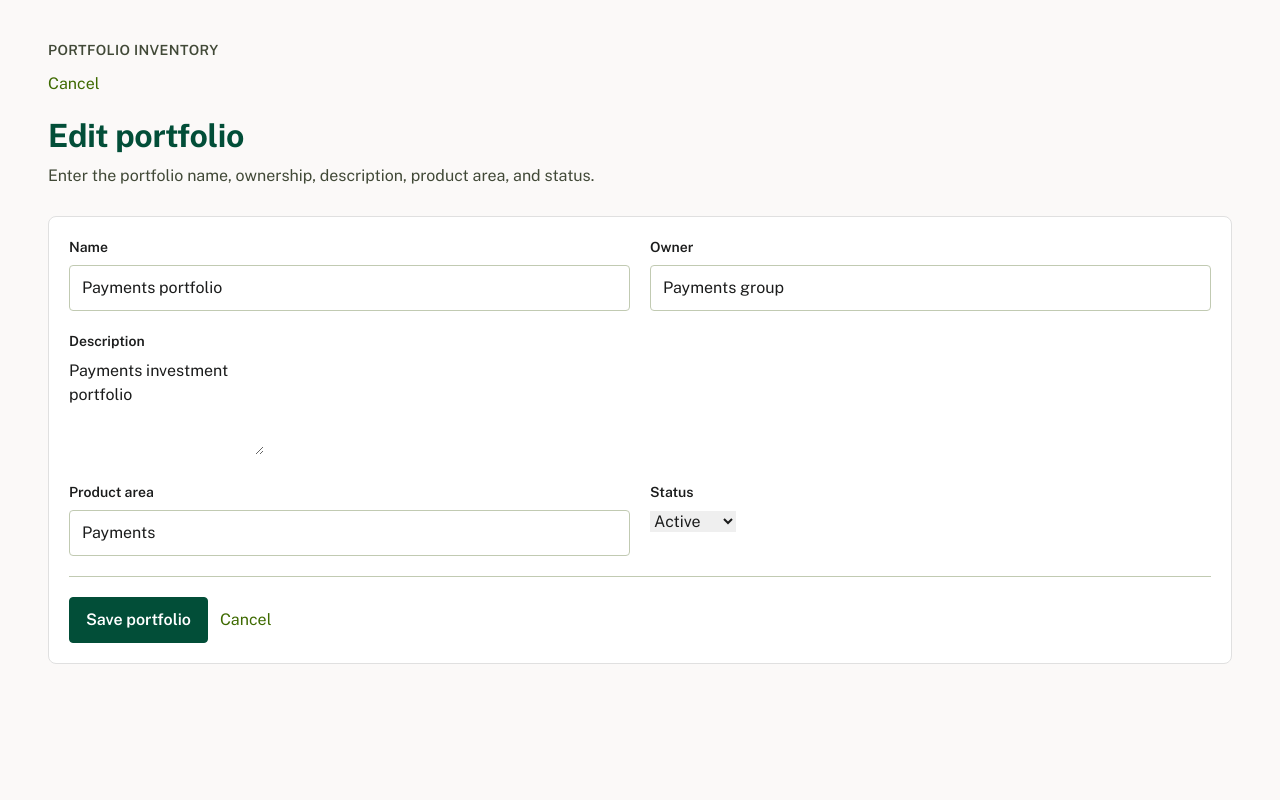
Test: PortfolioFormPage › loads all edit values and updates the portfolio before navigating to its details
Check: the form named "Edit portfolio" is shown, box x1=48 y1=216 x2=1232 y2=664
Check: the field labelled "Owner" holds "Payments group", box x1=650 y1=265 x2=1211 y2=311
Replace the text in the field labelled "Name" with "Payments portfolio updated" at [350, 288], box x1=69 y1=265 x2=630 y2=311
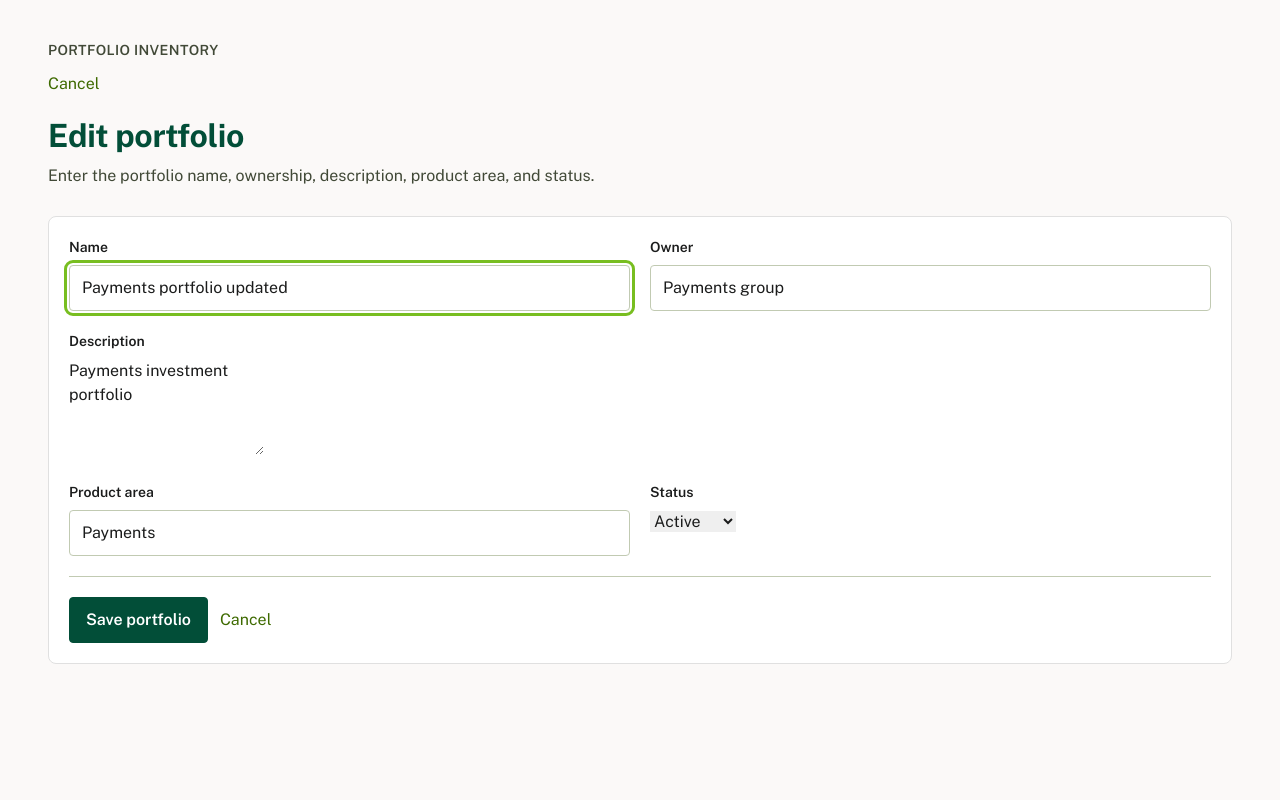
Select "Archived" in the dropdown labelled "Status" at [693, 522], box x1=650 y1=511 x2=736 y2=532
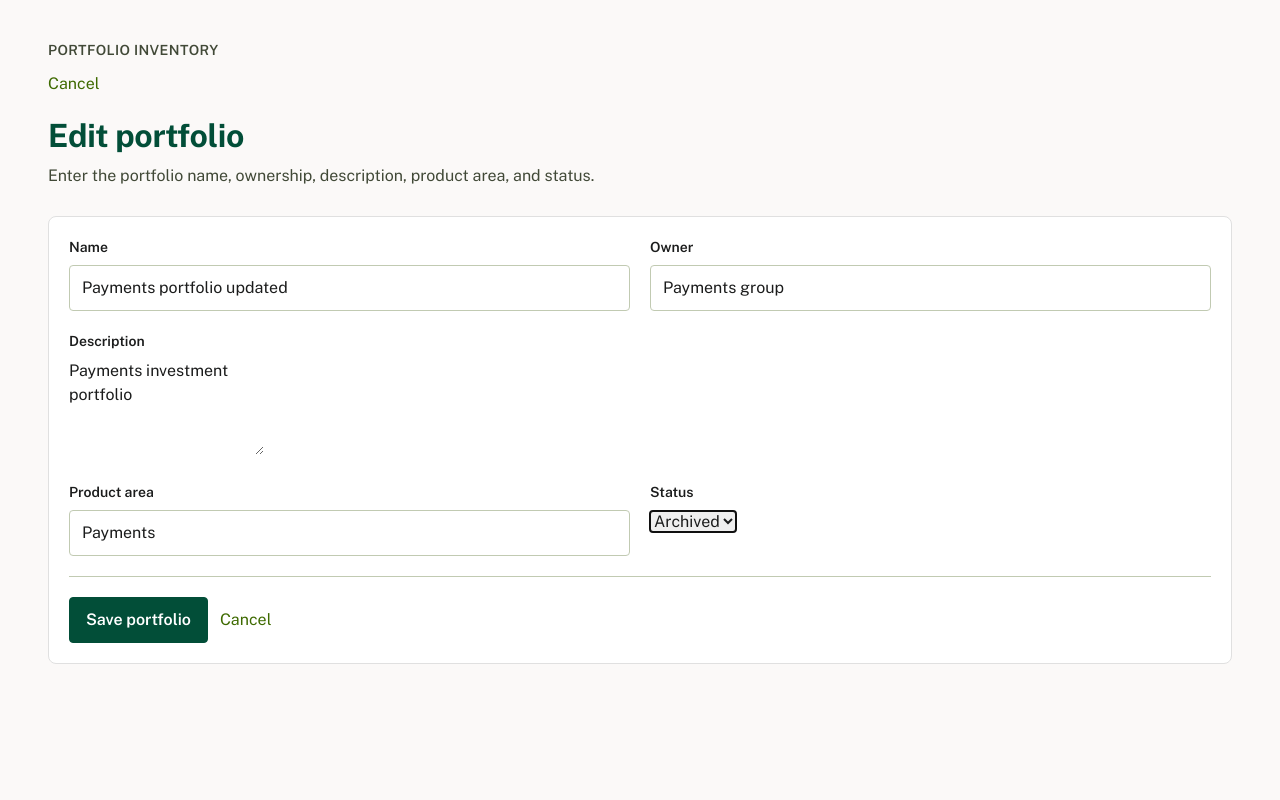
Click the button "Save portfolio" at [138, 620], box x1=69 y1=597 x2=208 y2=643
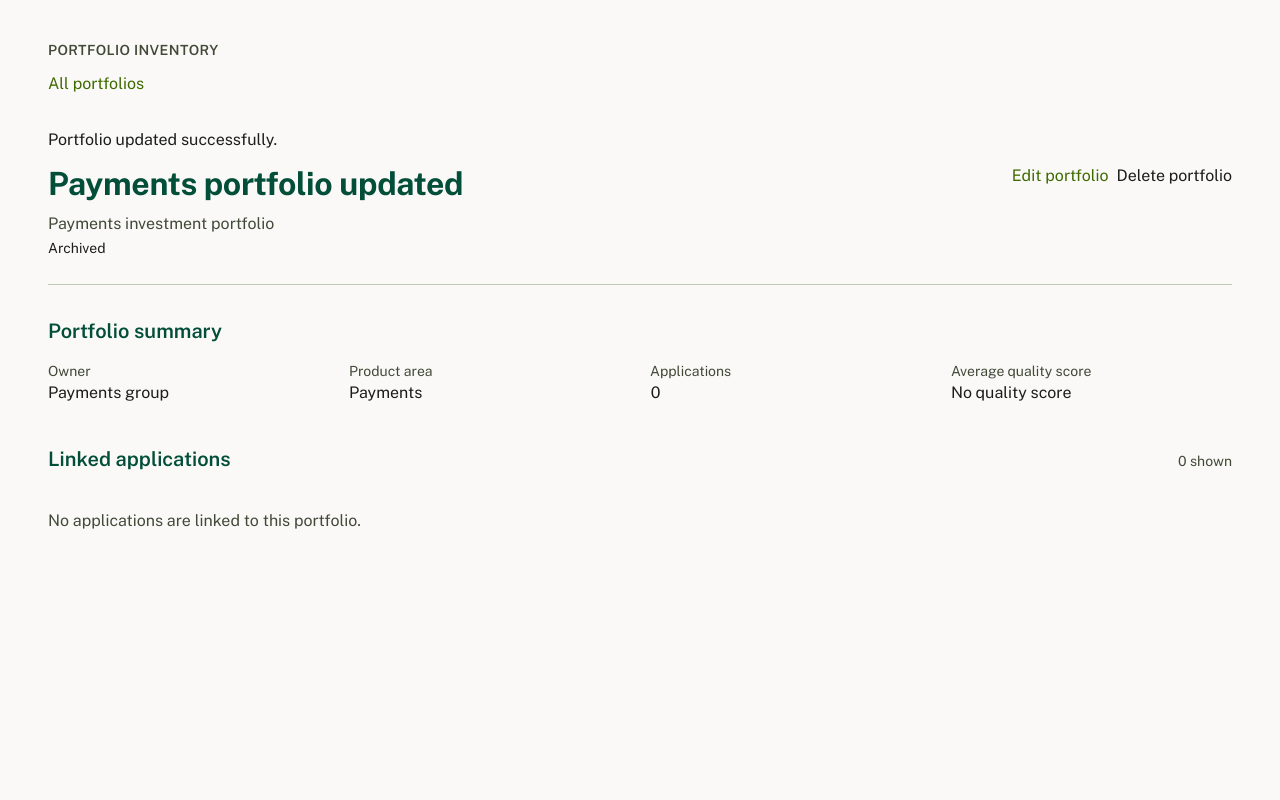
Check: the heading "Payments portfolio updated" is shown, box x1=48 y1=164 x2=463 y2=204
Check: the text "Portfolio updated successfully." is shown, box x1=48 y1=130 x2=277 y2=149
